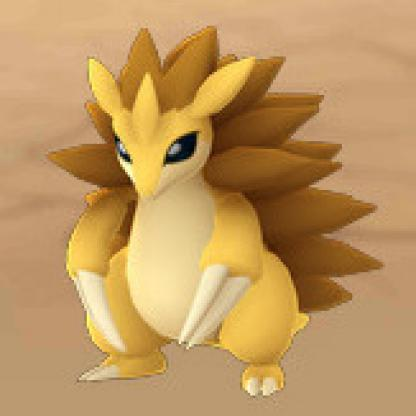Sandslash: (51, 10, 397, 405)
